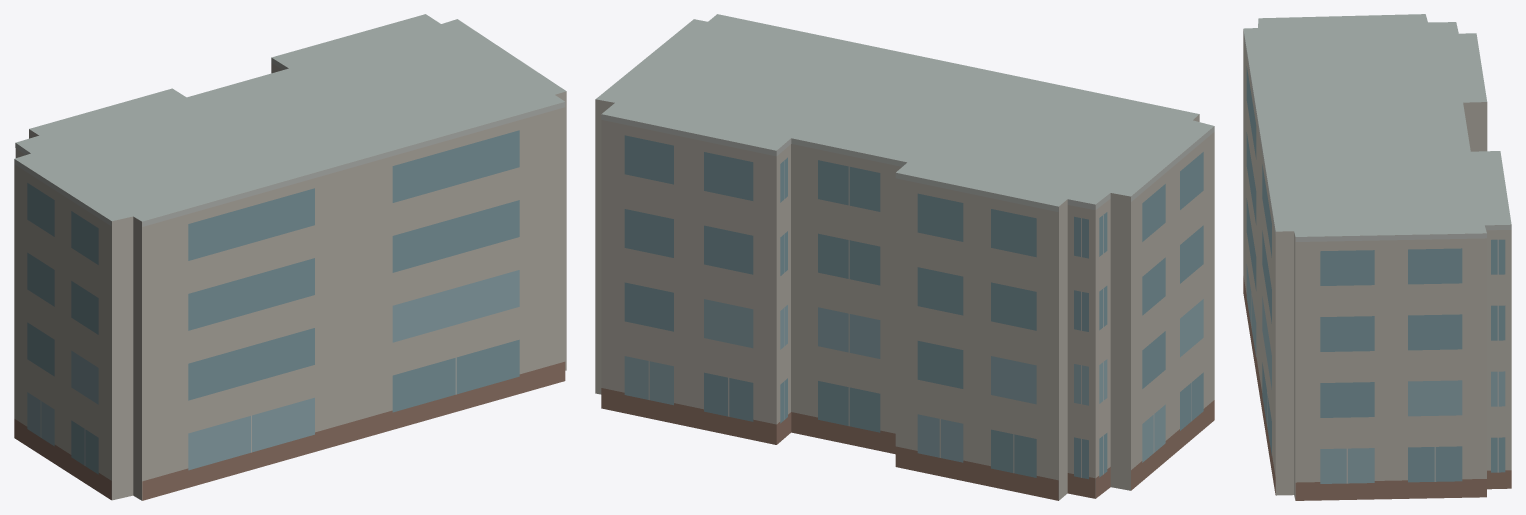
File: survey-upis-32819834.glb
3 views of the same model, side by side, from view 1: azimuth 30°, elevation 25°; view 2: azimuth 150°, elevation 25°; view 3: azimuth 270°, elevation 25° (orthographic). The views are drawn at different scales.
Parts seen in each view (by area): view 1: survey-upis-32819834.tmp; view 2: survey-upis-32819834.tmp; view 3: survey-upis-32819834.tmp.
Part boxes in pixels (bbox=[...]): survey-upis-32819834.tmp: bbox=[14, 14, 566, 500]; survey-upis-32819834.tmp: bbox=[595, 14, 1214, 500]; survey-upis-32819834.tmp: bbox=[1243, 14, 1511, 500].
Size of the model in its own units: 23.03 by 12.7 by 11.71.
